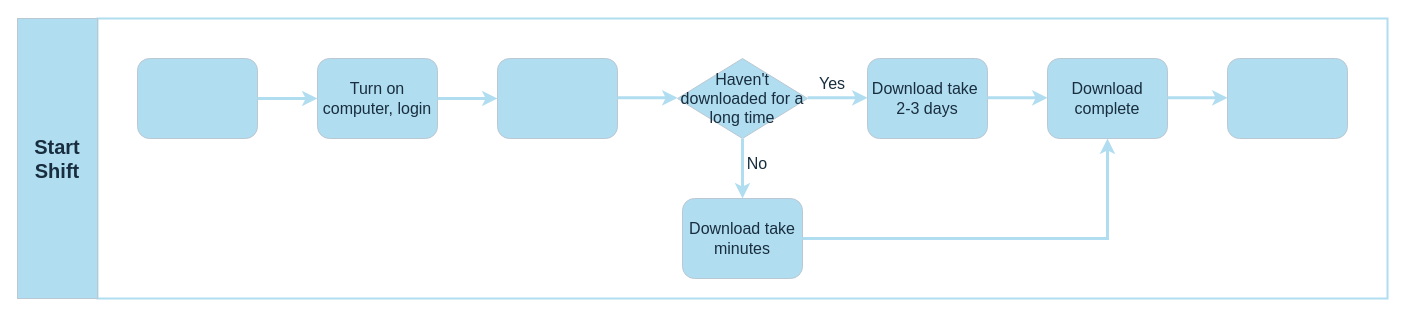
The diagram is 1406 pixels wide and 316 high, and some of its shapes have lost their labels. The shapes that lost their labels are listed below. From the top down, each one's centre as x and y in pixels, then its label:
At [197,98]: "Operator arrive".
At [557,98]: "Manually download".
At [1287,98]: "Start production".
